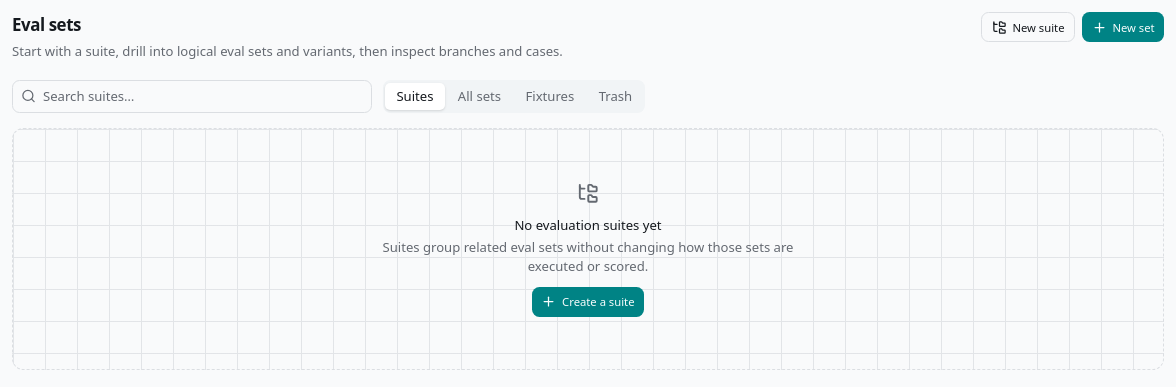
Test: SetsPage › renders sets with their case counts and tags
The image size is (1176, 387).
What coordinates should you click on to do the following:
click the tab "All sets"
I would click on:
 (480, 96)
Its box is [447,83,512,110].
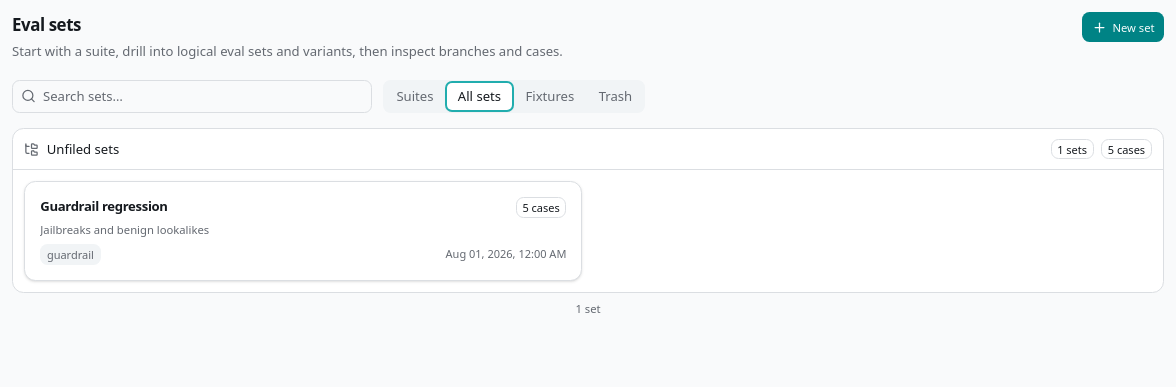
Expected: the text "Guardrail regression" is shown, [40,197,168,216]
Expected: the text "5 cases" is shown 2 times, [1101,139,1152,159]; [516,197,566,218]
Expected: the text "guardrail" is shown, [40,244,101,265]
